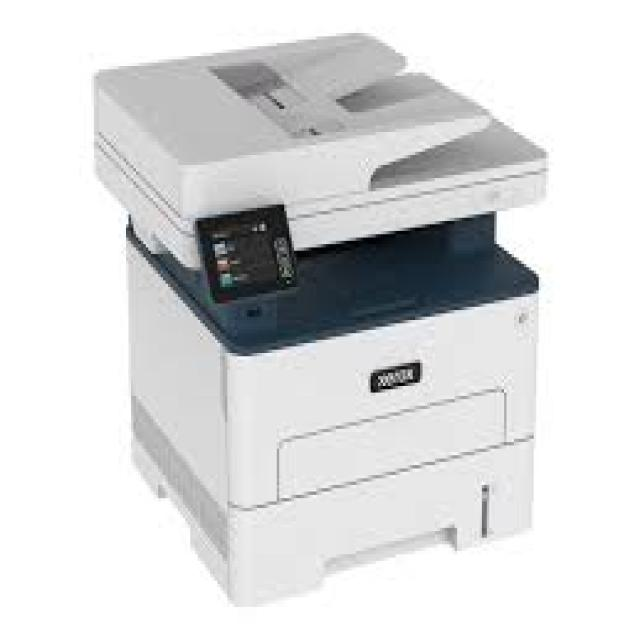printer: (82, 24, 578, 615)
